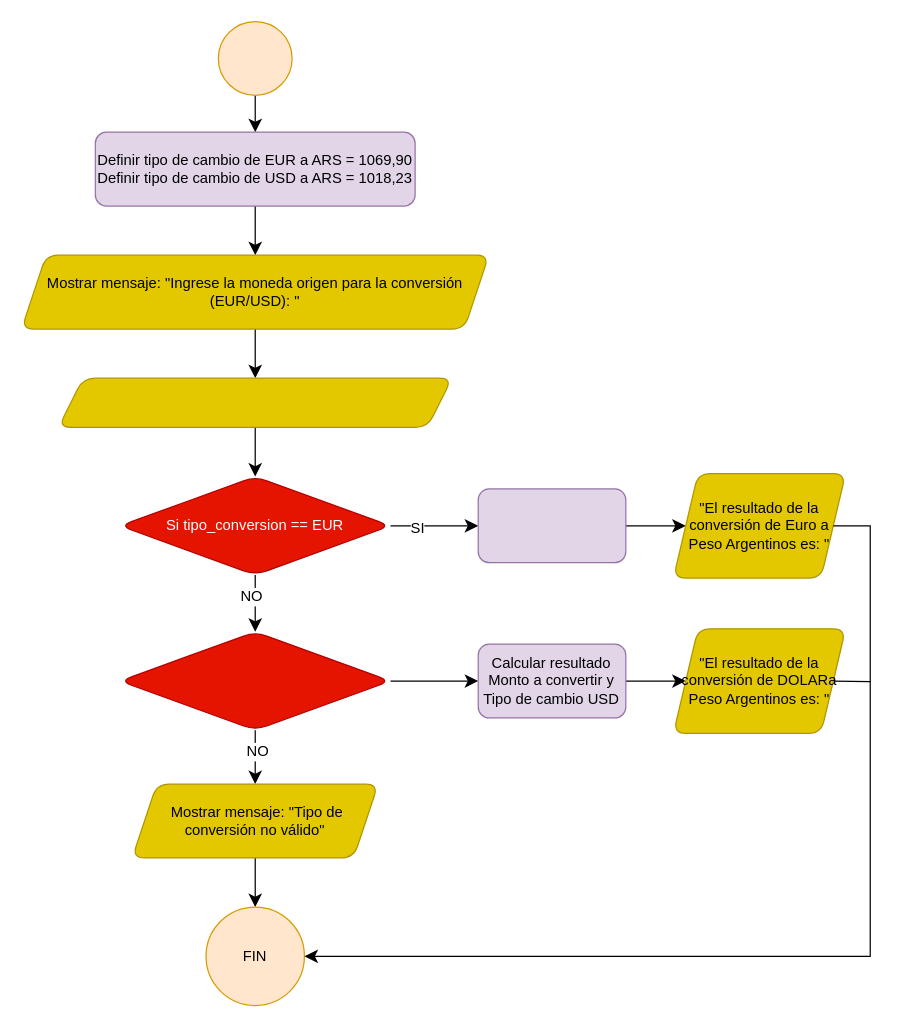
Image size: 904x1027. Some labels were removed from this diagram. The shapes that lost their labels are listed below. From the top down, each one's centre as x and y in pixels, then its label:
pixel 254 57: INICIO
pixel 254 402: Mostrar mensaje: "Ingrese el monto a convertir: "
pixel 551 525: Calcular resultado Monto a convertir y Tipo de cambio EUR
pixel 255 680: Si tipo_conversion == USD
